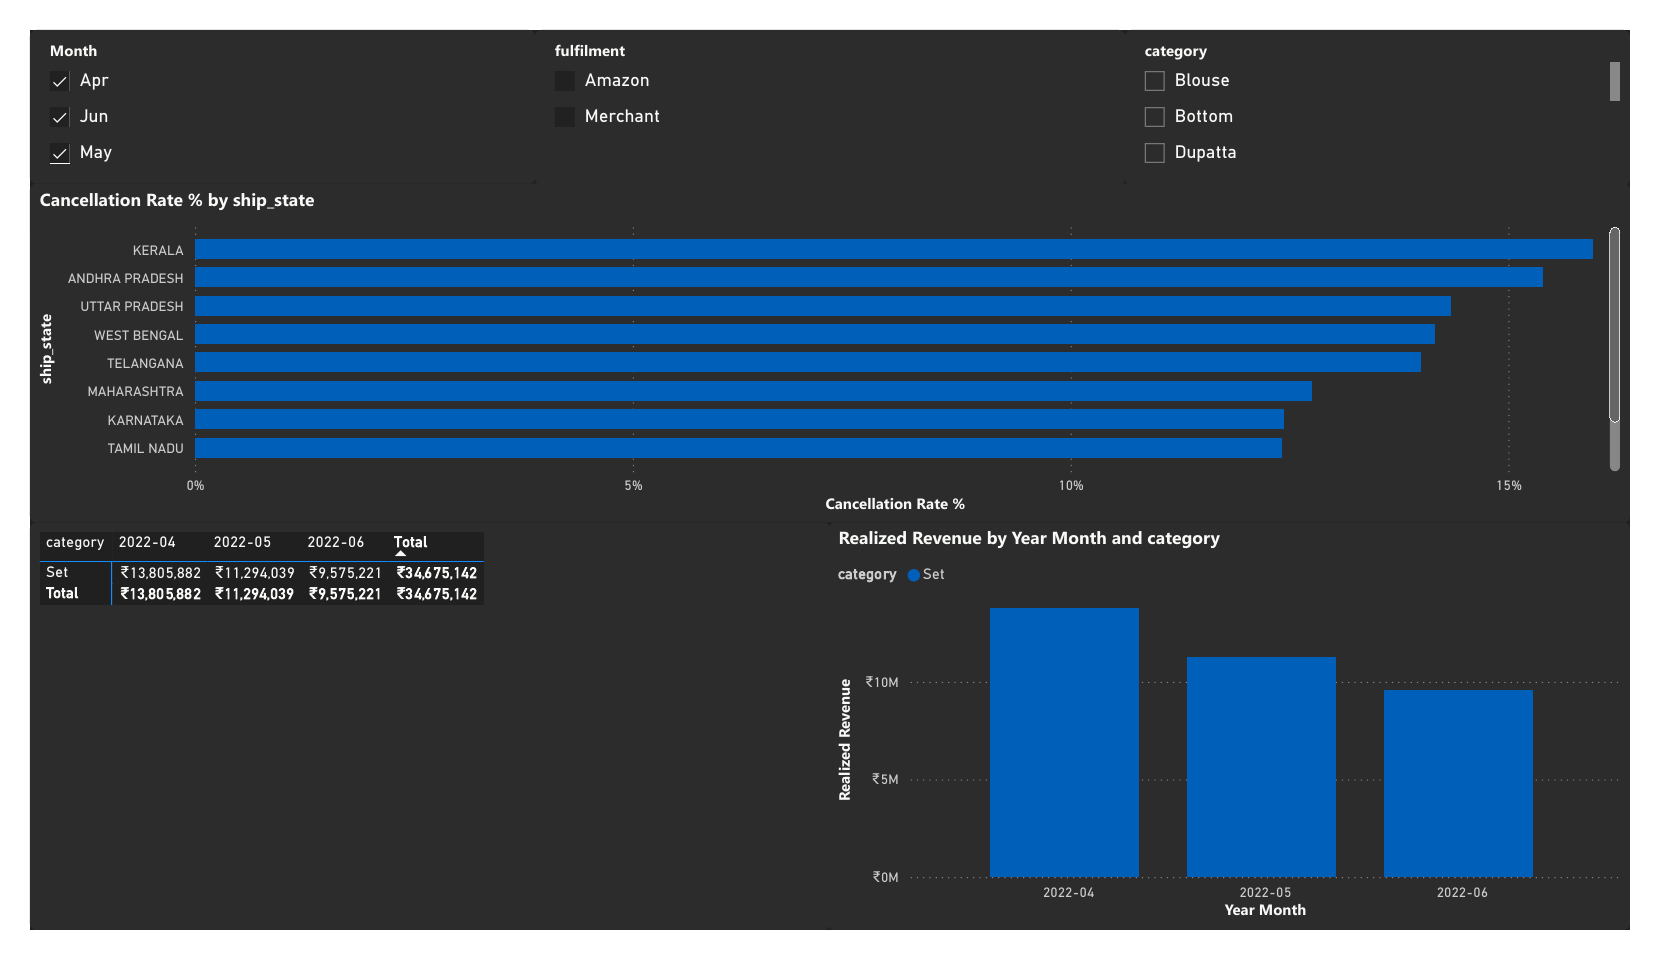

The page's visual inventory and layout, read from the dashboard file:
{"tool":"powerbi","page":{"name":"Page 2","canvas":[1280,720],"ordinal":1},"visuals":[{"type":"clusteredColumnChart","fields":{"Category":["Dim_Date.Year Month"],"Y":["amazon_big amazon_sale_report2_clean.Realized Revenue"],"Series":["amazon_big amazon_sale_report2_clean.category"]},"box":[639.4,394,640.3,326],"z":0},{"type":"pivotTable","fields":{"Rows":["amazon_big amazon_sale_report2_clean.category"],"Columns":["Dim_Date.Year Month"],"Values":["amazon_big amazon_sale_report2_clean.Realized Revenue"]},"box":[0,394,640.3,326],"z":1000},{"type":"clusteredBarChart","fields":{"Category":["amazon_big amazon_sale_report2_clean.ship_state"],"Y":["amazon_big amazon_sale_report2_clean.Cancellation Rate %"]},"box":[0,122.7,1279.7,271.3],"z":2000},{"type":"slicer","fields":{"Values":["Dim_Date.Month"]},"box":[0,0,403.9,122.7],"z":3000},{"type":"slicer","fields":{"Values":["amazon_big amazon_sale_report2_clean.fulfilment"]},"box":[403.9,0,471.9,124.5],"z":4000},{"type":"slicer","fields":{"Values":["amazon_big amazon_sale_report2_clean.category"]},"box":[875.8,0,403.9,124.5],"z":5000}]}

Visuals, with their boxes in screenshot pixels (x1, y1, x2, y2), scaled from the page's 1280x720 canvas onto the 1660x960 screenshot:
clusteredColumnChart - Dim_Date.Year Month x amazon_big amazon_sale_report2_clean.Realized Revenue: bbox=[829, 525, 1659, 959]
pivotTable - amazon_big amazon_sale_report2_clean.category x Dim_Date.Year Month: bbox=[0, 525, 830, 959]
clusteredBarChart - amazon_big amazon_sale_report2_clean.ship_state x amazon_big amazon_sale_report2_clean.Cancellation Rate %: bbox=[0, 164, 1659, 525]
slicer - Dim_Date.Month: bbox=[0, 0, 524, 164]
slicer - amazon_big amazon_sale_report2_clean.fulfilment: bbox=[524, 0, 1136, 166]
slicer - amazon_big amazon_sale_report2_clean.category: bbox=[1136, 0, 1659, 166]
